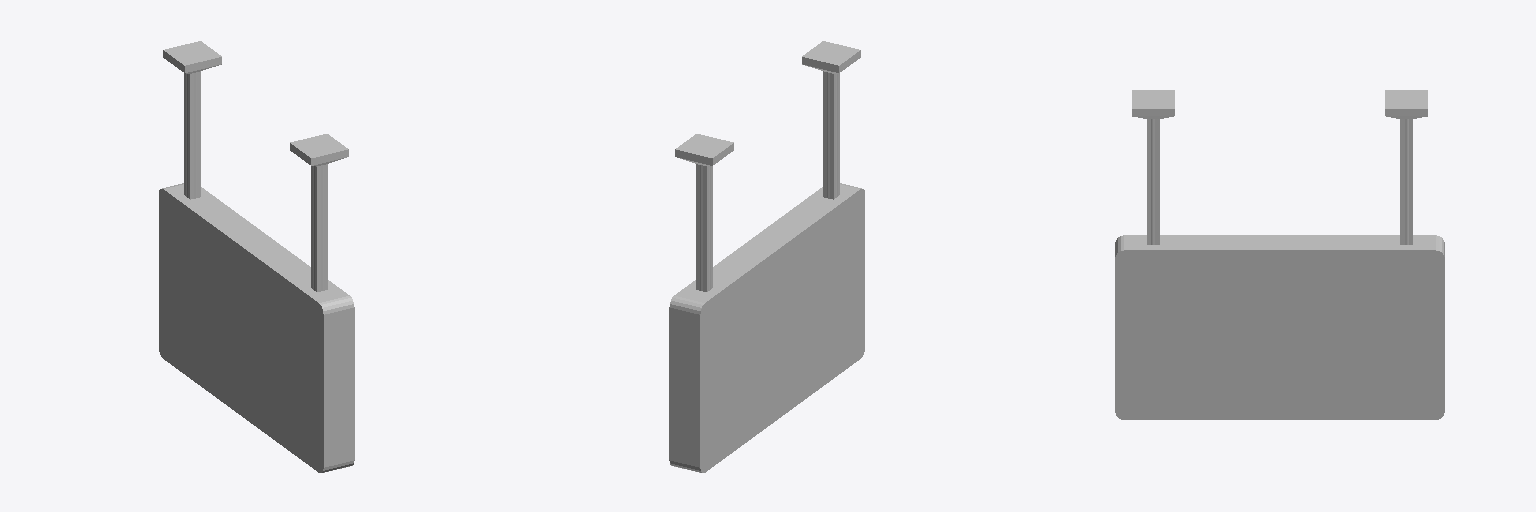
File: Airport_Sign.obj
3 views of the same model, side by side, from view 1: azimuth 30°, elevation 25°; view 2: azimuth 150°, elevation 25°; view 3: azimuth 270°, elevation 25° (orthographic).
Parts seen in each view (by area): view 1: 17.1.Collider_Cube.581, 17.1.Model_Cube.147; view 2: 17.1.Collider_Cube.581, 17.1.Model_Cube.147; view 3: 17.1.Collider_Cube.581, 17.1.Model_Cube.147.
Part boxes in pixels (x1,y1,x2,y2): 17.1.Collider_Cube.581: (159, 41, 354, 472); 17.1.Model_Cube.147: (159, 72, 354, 472); 17.1.Collider_Cube.581: (669, 41, 864, 472); 17.1.Model_Cube.147: (669, 72, 864, 472); 17.1.Collider_Cube.581: (1115, 90, 1444, 419); 17.1.Model_Cube.147: (1115, 119, 1444, 419).
Bounding box in the file's own units: 0.2131 × 1.69 × 1.62.